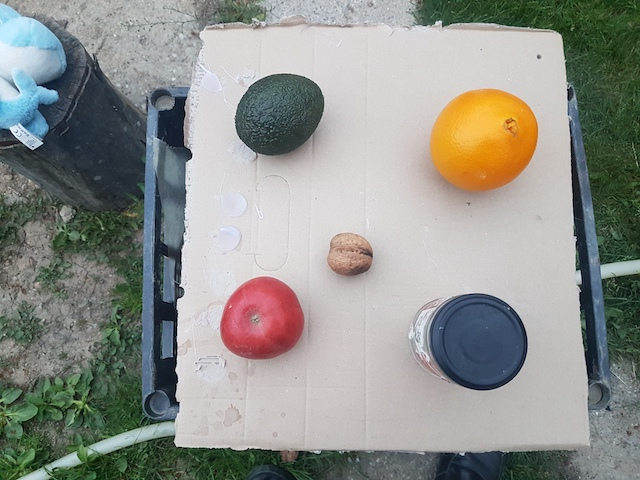apple: (216, 274, 306, 358)
avocado: (234, 71, 327, 158)
nut: (325, 229, 376, 279)
orange: (428, 88, 540, 191)
recipient: (430, 290, 527, 390)
